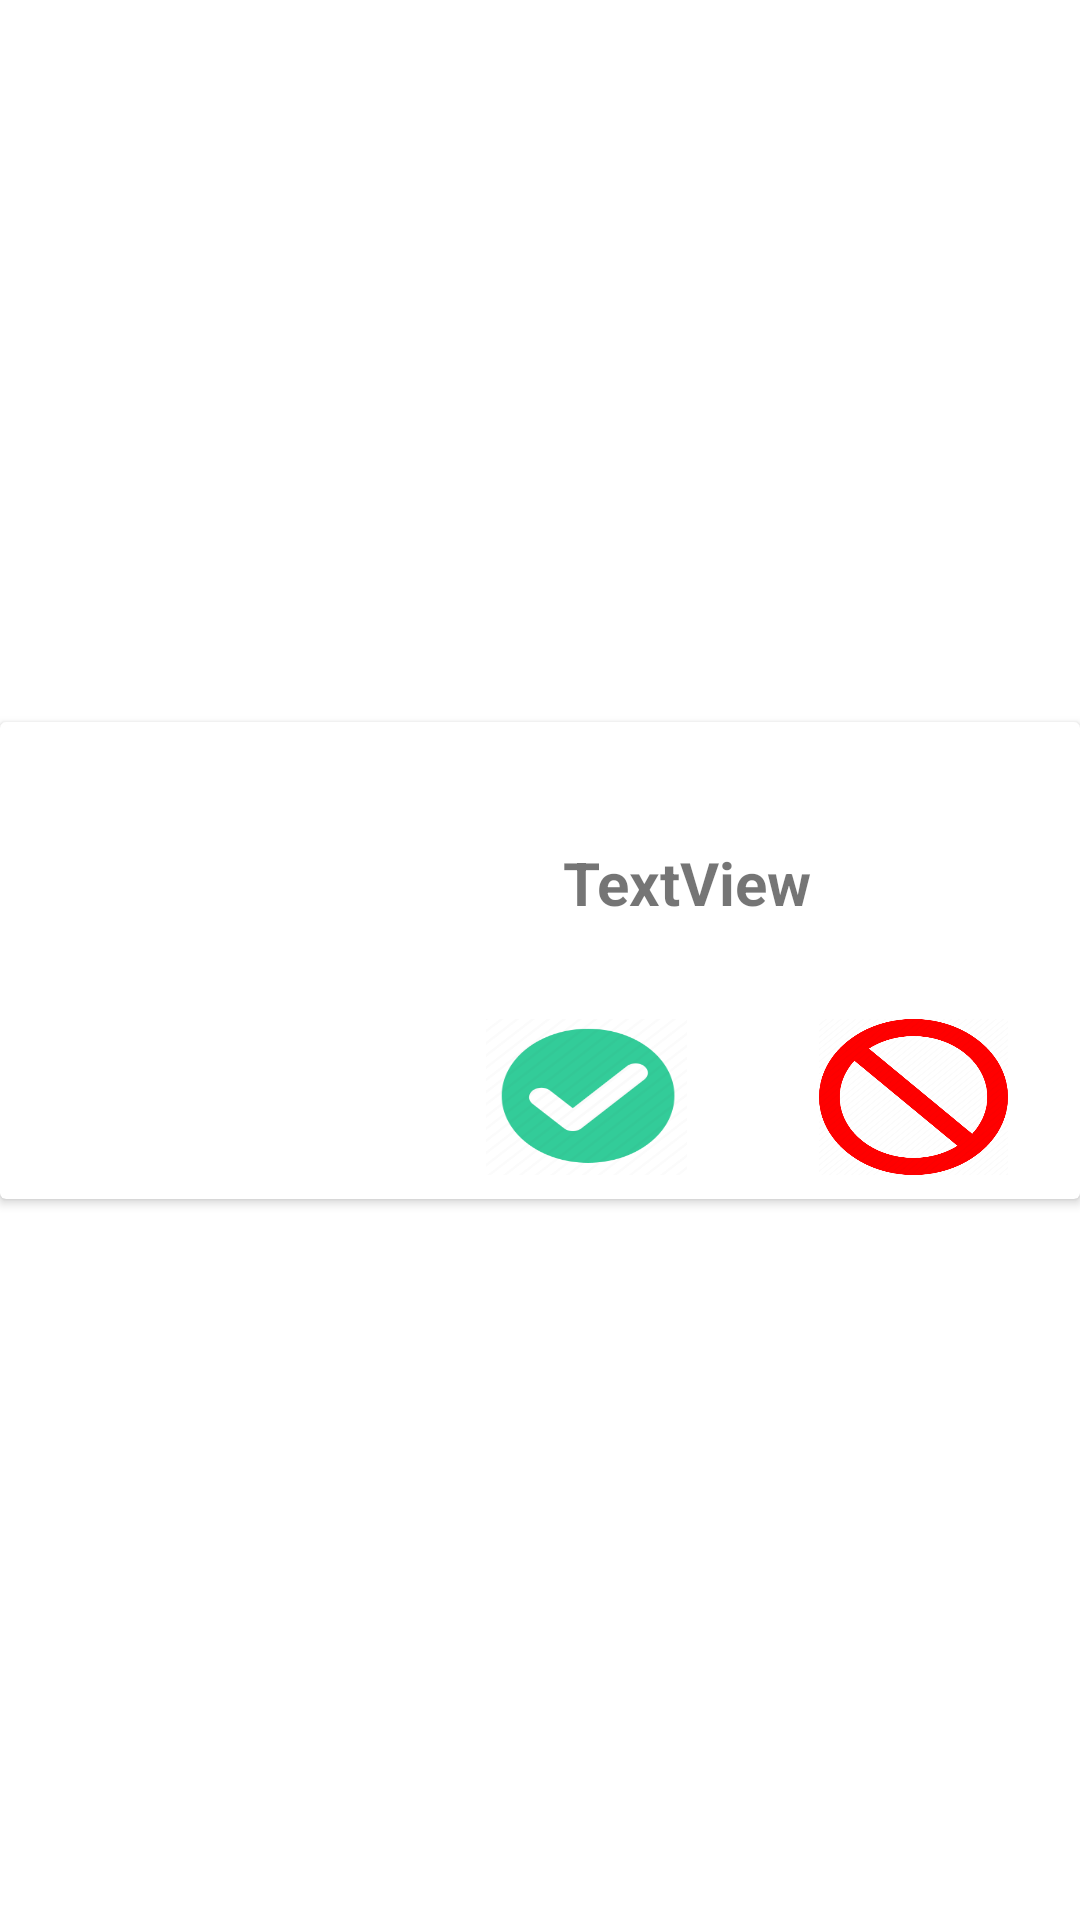

Where to tap for icons on this 1080w x 1920h app screen, as (x,y):
yes: (588,1096)
